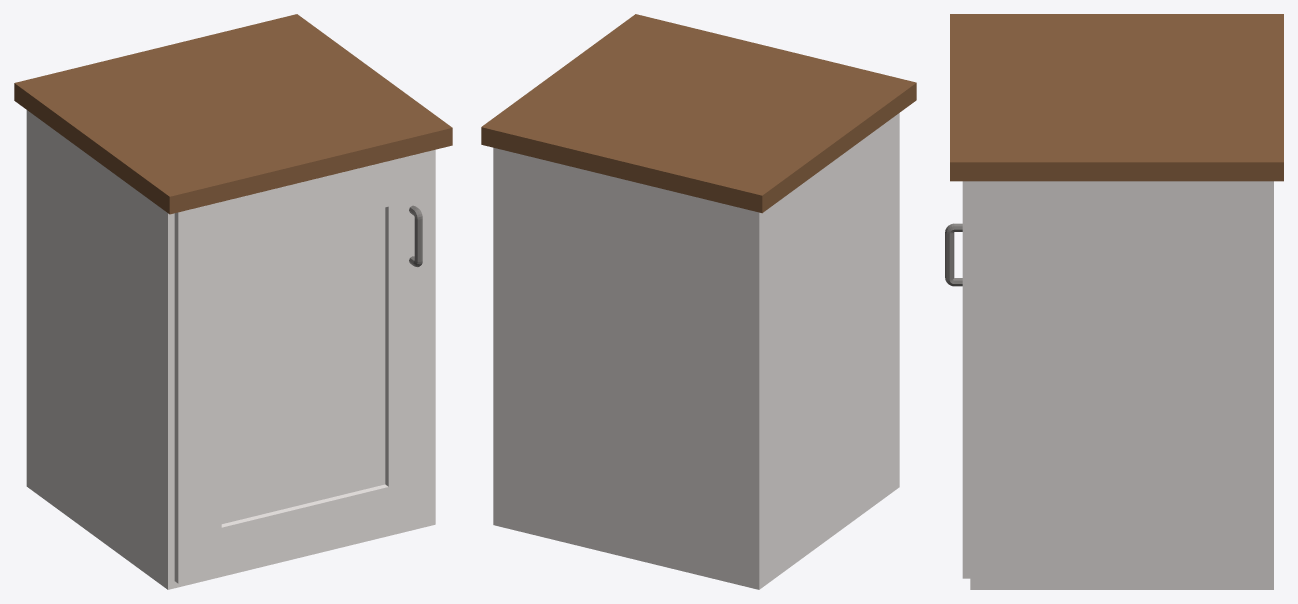
File: Kitchen Tabletop_02.fbx
3 renders of one model, left to right at view 1: azimuth 30°, elevation 25°; view 2: azimuth 150°, elevation 25°; view 3: azimuth 270°, elevation 25°, orthographic. The views are drawn at different scales.
Parts seen in each view (by area): view 1: Kitchen Tabletop_02; view 2: Kitchen Tabletop_02; view 3: Kitchen Tabletop_02.
Part boxes in pixels (<box>): Kitchen Tabletop_02: <box>14,14,452,589</box>; Kitchen Tabletop_02: <box>481,14,916,589</box>; Kitchen Tabletop_02: <box>945,14,1283,589</box>.
Size of the model in its own units: 65.58 by 89.05 by 63.31.
